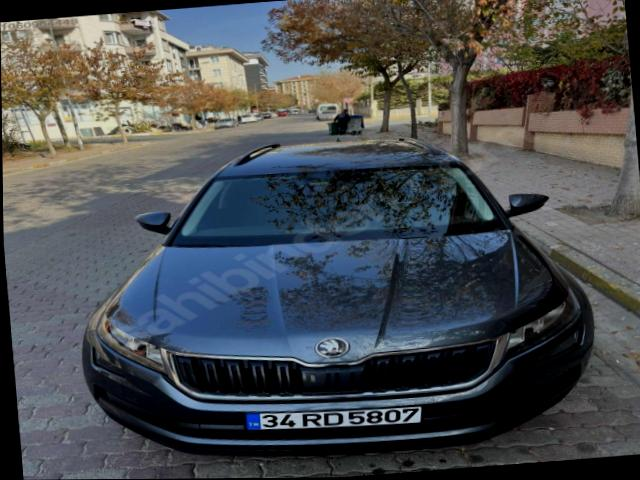plaka: (245, 406, 421, 430)
